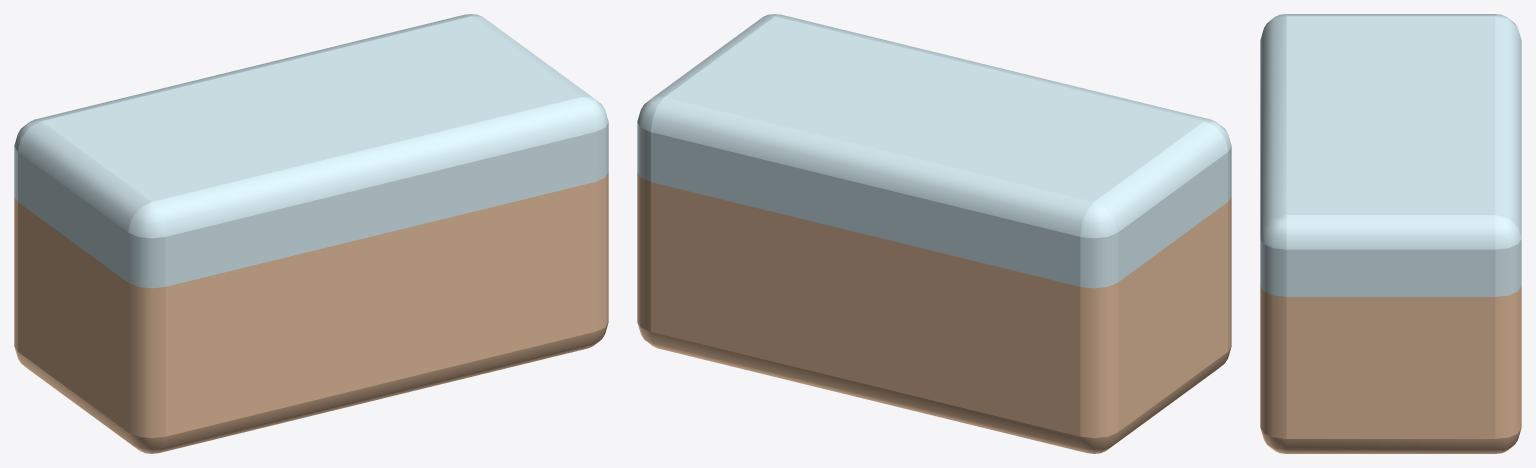
Rendered from blockSnowRoundedLong.glb.
3 views of the same model, side by side, from view 1: azimuth 30°, elevation 25°; view 2: azimuth 150°, elevation 25°; view 3: azimuth 270°, elevation 25° (orthographic). The views are drawn at different scales.
Parts seen in each view (by area): view 1: blockSnowRoundedLong; view 2: blockSnowRoundedLong; view 3: blockSnowRoundedLong.
Part boxes in pixels (bbox=[...]): blockSnowRoundedLong: bbox=[14, 14, 608, 453]; blockSnowRoundedLong: bbox=[637, 14, 1231, 453]; blockSnowRoundedLong: bbox=[1260, 14, 1521, 453].
Bounding box in the file's own units: 2 × 1 × 1.
